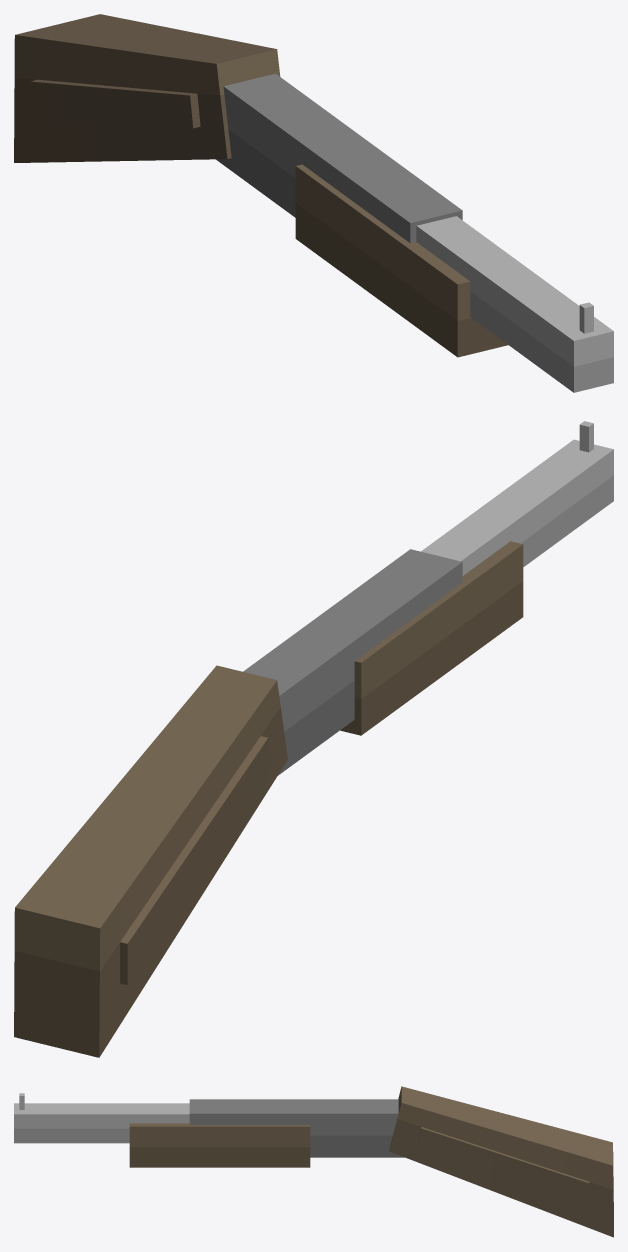
File: shotgun.glb
3 renders of one model, top to bottom at view 1: azimuth 30°, elevation 25°; view 2: azimuth 150°, elevation 25°; view 3: azimuth 270°, elevation 25°, orthographic. The views are drawn at different scales.
Visible parts, largest first — view 1: shotgun; view 2: shotgun; view 3: shotgun.
Boxes of the visible parts, <box> form: shotgun: <box>14,14,613,392</box>; shotgun: <box>14,421,613,1057</box>; shotgun: <box>14,1086,613,1237</box>.
Size of the model in its own units: 0.3232 by 0.7627 by 3.15.
